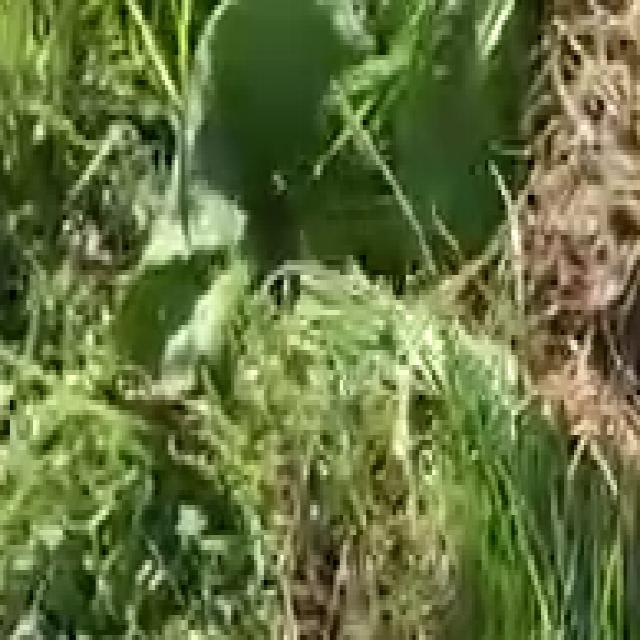organic waste: (96, 0, 534, 405)
